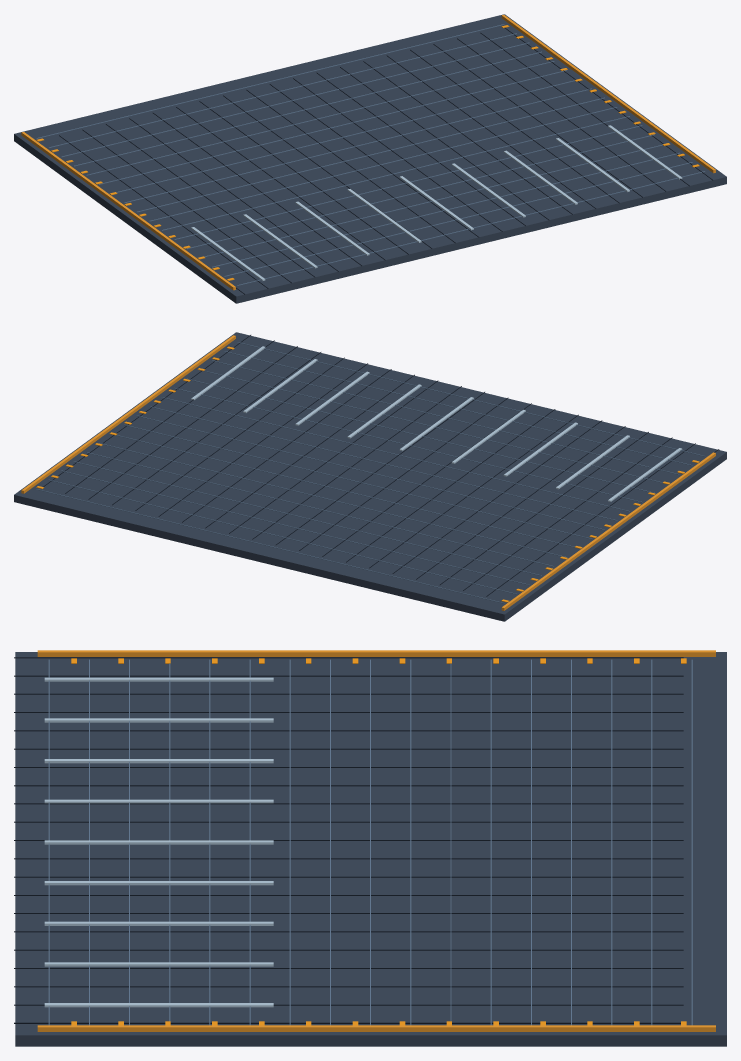
Rendered from 00_L89_HeliosRadiationDefenseArenaBase.fbx.
3 renders of one model, top to bottom at view 1: azimuth 30°, elevation 25°; view 2: azimuth 150°, elevation 25°; view 3: azimuth 270°, elevation 25°, orthographic. The views are drawn at different scales.
Visible parts, largest first — view 1: L87_HeliosRadiationDefenseArenaBase_Part_0000, L87_HeliosRadiationDefenseArenaBase_Part_0003, L87_HeliosRadiationDefenseArenaBase_Part_0001, L87_HeliosRadiationDefenseArenaBase_Part_0007, L87_HeliosRadiationDefenseArenaBase_Part_0004, L87_HeliosRadiationDefenseArenaBase_Part_0002; view 2: L87_HeliosRadiationDefenseArenaBase_Part_0000, L87_HeliosRadiationDefenseArenaBase_Part_0003, L87_HeliosRadiationDefenseArenaBase_Part_0001, L87_HeliosRadiationDefenseArenaBase_Part_0007, L87_HeliosRadiationDefenseArenaBase_Part_0004; view 3: L87_HeliosRadiationDefenseArenaBase_Part_0000, L87_HeliosRadiationDefenseArenaBase_Part_0001, L87_HeliosRadiationDefenseArenaBase_Part_0007, L87_HeliosRadiationDefenseArenaBase_Part_0003, L87_HeliosRadiationDefenseArenaBase_Part_0004, L87_HeliosRadiationDefenseArenaBase_Part_0002, L87_HeliosRadiationDefenseArenaBase_Part_0005.
Boxes of the visible parts, x1,y1,x2,y2 form: L87_HeliosRadiationDefenseArenaBase_Part_0000: (14,14,726,303); L87_HeliosRadiationDefenseArenaBase_Part_0003: (36,24,705,285); L87_HeliosRadiationDefenseArenaBase_Part_0001: (59,38,666,294); L87_HeliosRadiationDefenseArenaBase_Part_0007: (191,125,682,280); L87_HeliosRadiationDefenseArenaBase_Part_0004: (21,15,715,290); L87_HeliosRadiationDefenseArenaBase_Part_0002: (480,28,712,186); L87_HeliosRadiationDefenseArenaBase_Part_0000: (14,332,726,621); L87_HeliosRadiationDefenseArenaBase_Part_0003: (36,342,705,603); L87_HeliosRadiationDefenseArenaBase_Part_0001: (88,346,719,596); L87_HeliosRadiationDefenseArenaBase_Part_0007: (191,346,682,501); L87_HeliosRadiationDefenseArenaBase_Part_0004: (21,335,715,610); L87_HeliosRadiationDefenseArenaBase_Part_0000: (15,652,726,1046); L87_HeliosRadiationDefenseArenaBase_Part_0001: (14,657,683,987); L87_HeliosRadiationDefenseArenaBase_Part_0007: (44,677,273,1007); L87_HeliosRadiationDefenseArenaBase_Part_0003: (48,659,692,1025); L87_HeliosRadiationDefenseArenaBase_Part_0004: (37,650,715,1031); L87_HeliosRadiationDefenseArenaBase_Part_0002: (14,1004,683,1023); L87_HeliosRadiationDefenseArenaBase_Part_0005: (71,658,686,1025).
Bounding box in the file's own units: 3250 × 88.5 × 2555.
